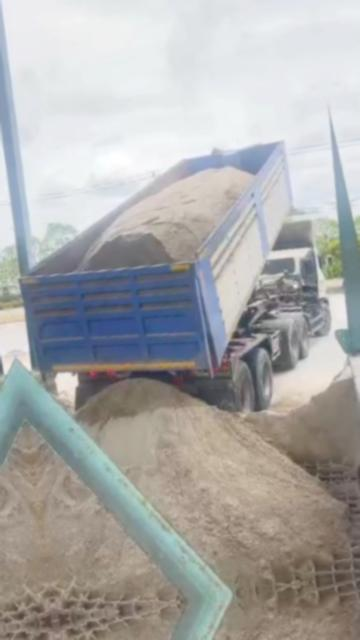sand: (77, 379, 346, 591), (29, 445, 173, 597), (79, 167, 254, 270), (246, 370, 360, 465), (52, 392, 74, 414), (24, 418, 40, 448)
